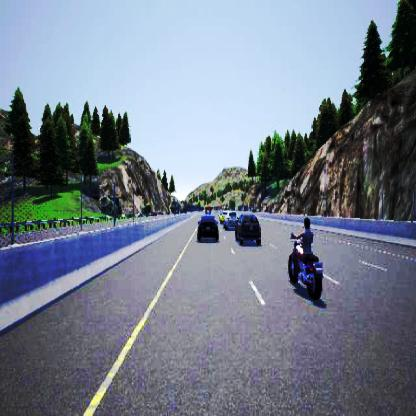motobike: (288, 215, 322, 300)
vehicle: (218, 209, 260, 243), (197, 206, 218, 240)
